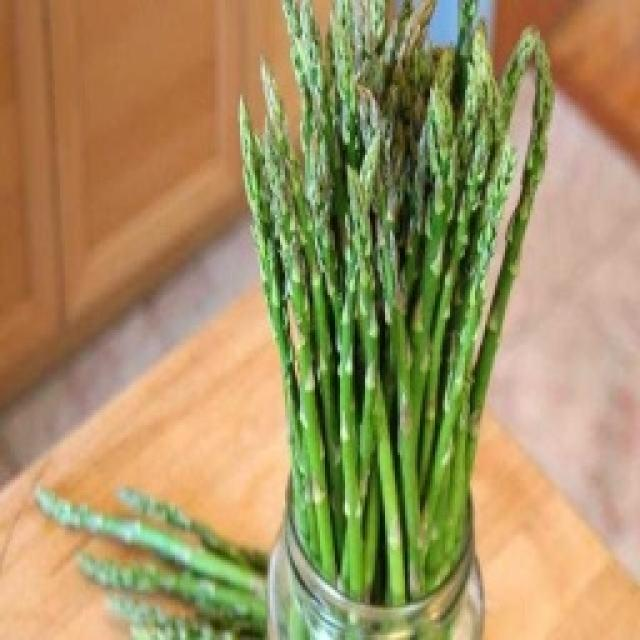Asparagus spear: (263, 54, 504, 570)
